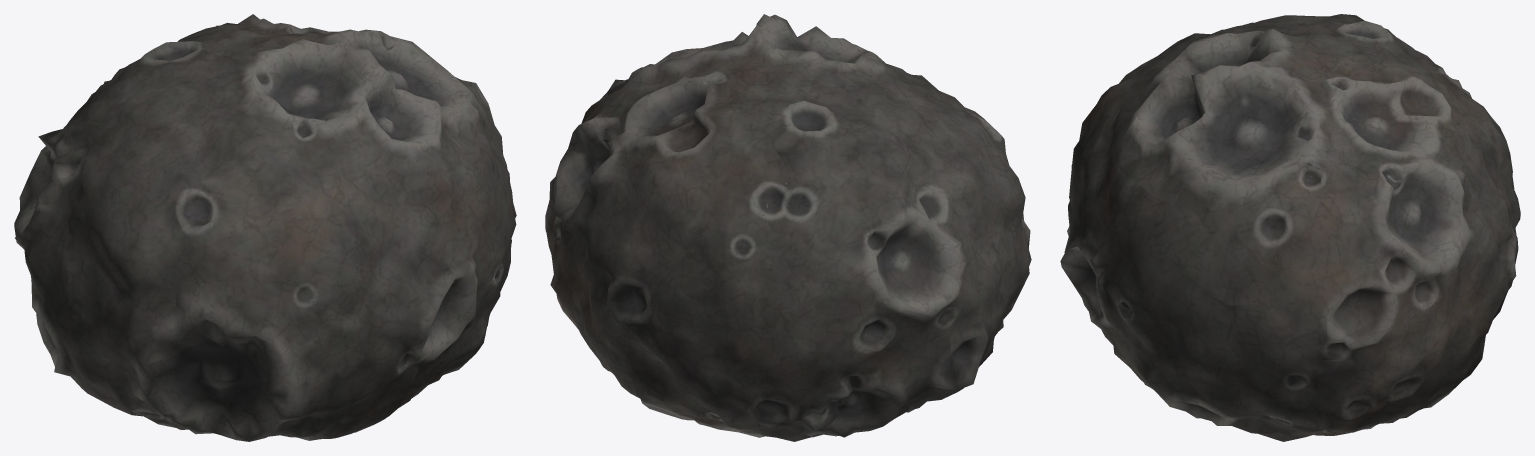
File: asteroid_b.glb
3 renders of one model, left to right at view 1: azimuth 30°, elevation 25°; view 2: azimuth 150°, elevation 25°; view 3: azimuth 270°, elevation 25°, orthographic. The views are drawn at different scales.
Parts seen in each view (by area): view 1: AST_B_low; view 2: AST_B_low; view 3: AST_B_low.
Boxes of the visible parts, box(x1,y1,x2,y2) form: AST_B_low: box(14, 14, 516, 441); AST_B_low: box(545, 14, 1031, 441); AST_B_low: box(1060, 14, 1520, 441).
Bounding box in the file's own units: 1.9 × 1.55 × 1.73.
1 material, 1 textured.
